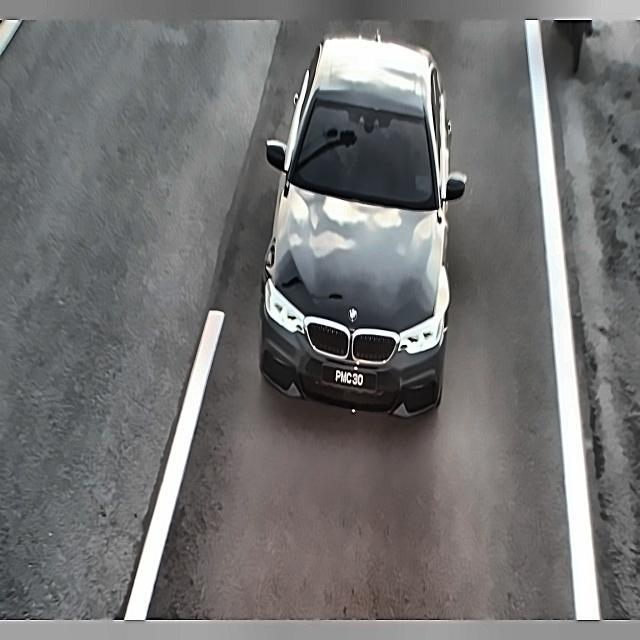car: (317, 360, 374, 398)
